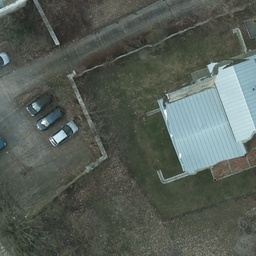car: (50, 122, 78, 147), (38, 108, 65, 130), (25, 95, 53, 116), (0, 51, 10, 78), (0, 136, 6, 167)
